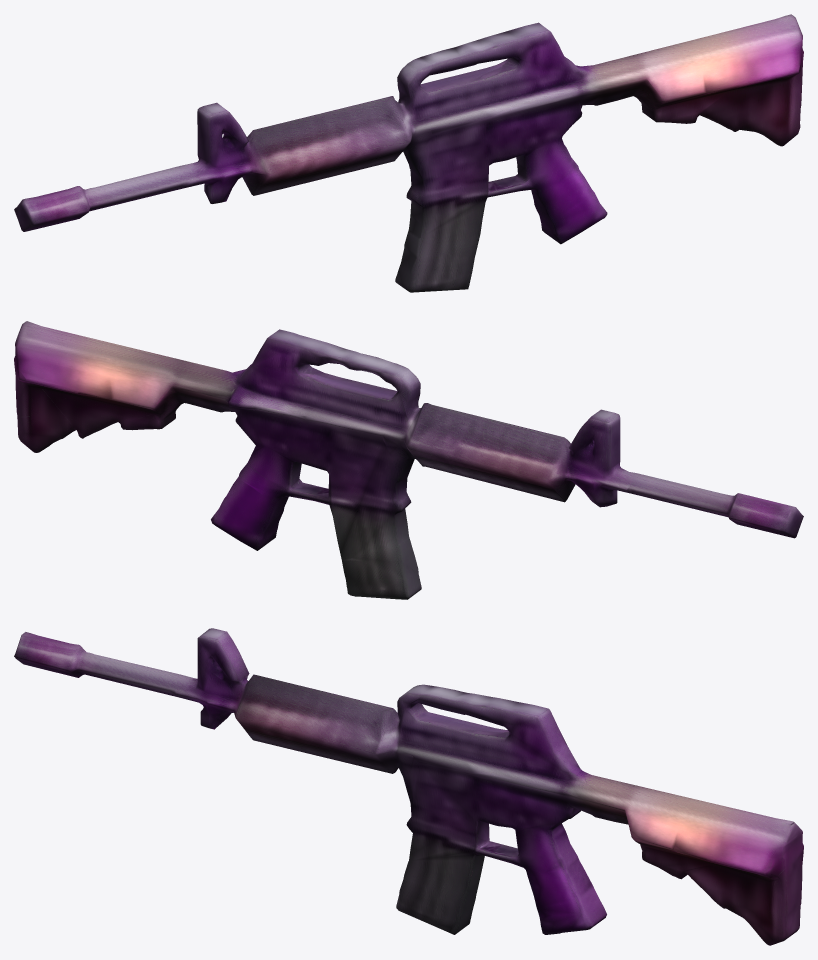
The model's file is purple-mirage-rifle.glb.
3 renders of one model, top to bottom at view 1: azimuth 30°, elevation 25°; view 2: azimuth 150°, elevation 25°; view 3: azimuth 330°, elevation 25°, orthographic.
Visible parts, largest first — view 1: Mesh_0; view 2: Mesh_0; view 3: Mesh_0.
Boxes of the visible parts, x1=… form: Mesh_0: x1=14, y1=14, x2=803, y2=292; Mesh_0: x1=14, y1=321, x2=803, y2=599; Mesh_0: x1=14, y1=628, x2=803, y2=945.
Bounding box in the file's own units: 1.92 × 0.565 × 0.148.
1 material, 1 textured.
